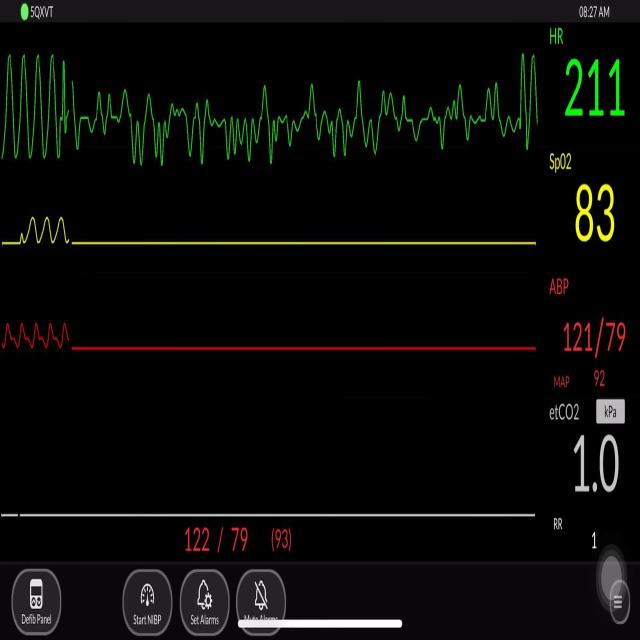danger: (6, 36, 72, 169)
